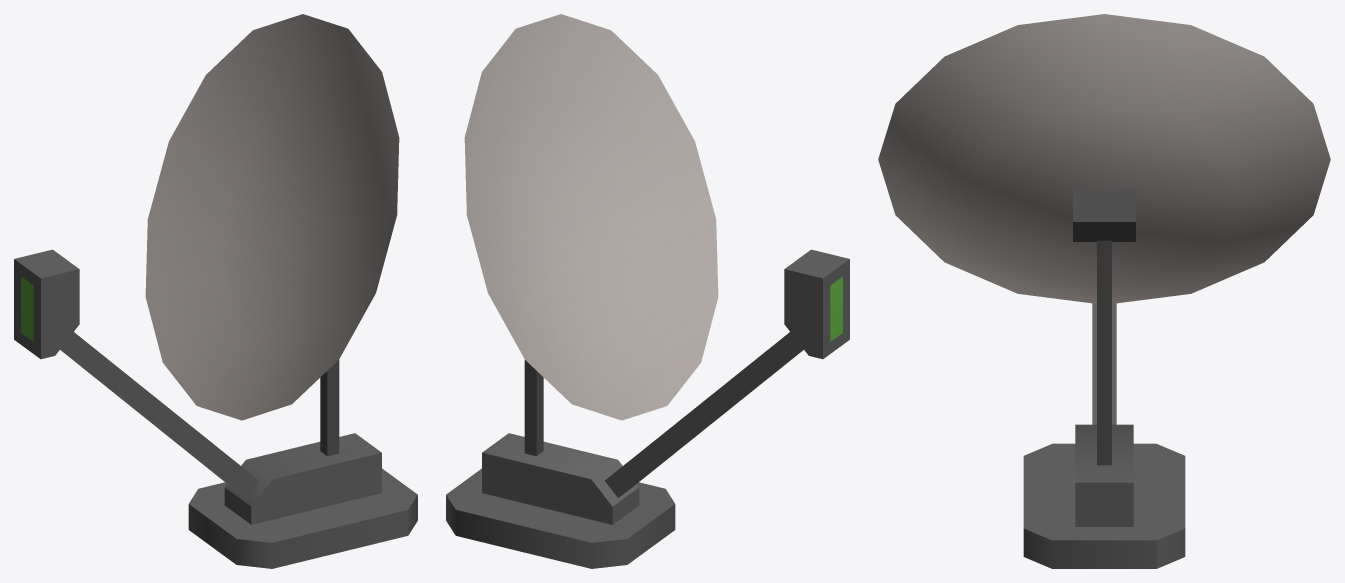
File: Antenna.fbx
3 renders of one model, left to right at view 1: azimuth 30°, elevation 25°; view 2: azimuth 150°, elevation 25°; view 3: azimuth 270°, elevation 25°, orthographic. The views are drawn at different scales.
Parts seen in each view (by area): view 1: Receiver_3A; view 2: Receiver_3A; view 3: Receiver_3A.
Part boxes in pixels (x1,y1,x2,y2): Receiver_3A: [14, 14, 417, 568]; Receiver_3A: [446, 14, 849, 568]; Receiver_3A: [878, 14, 1330, 568].
Bounding box in the file's own units: 2863 × 3625 × 2802.
